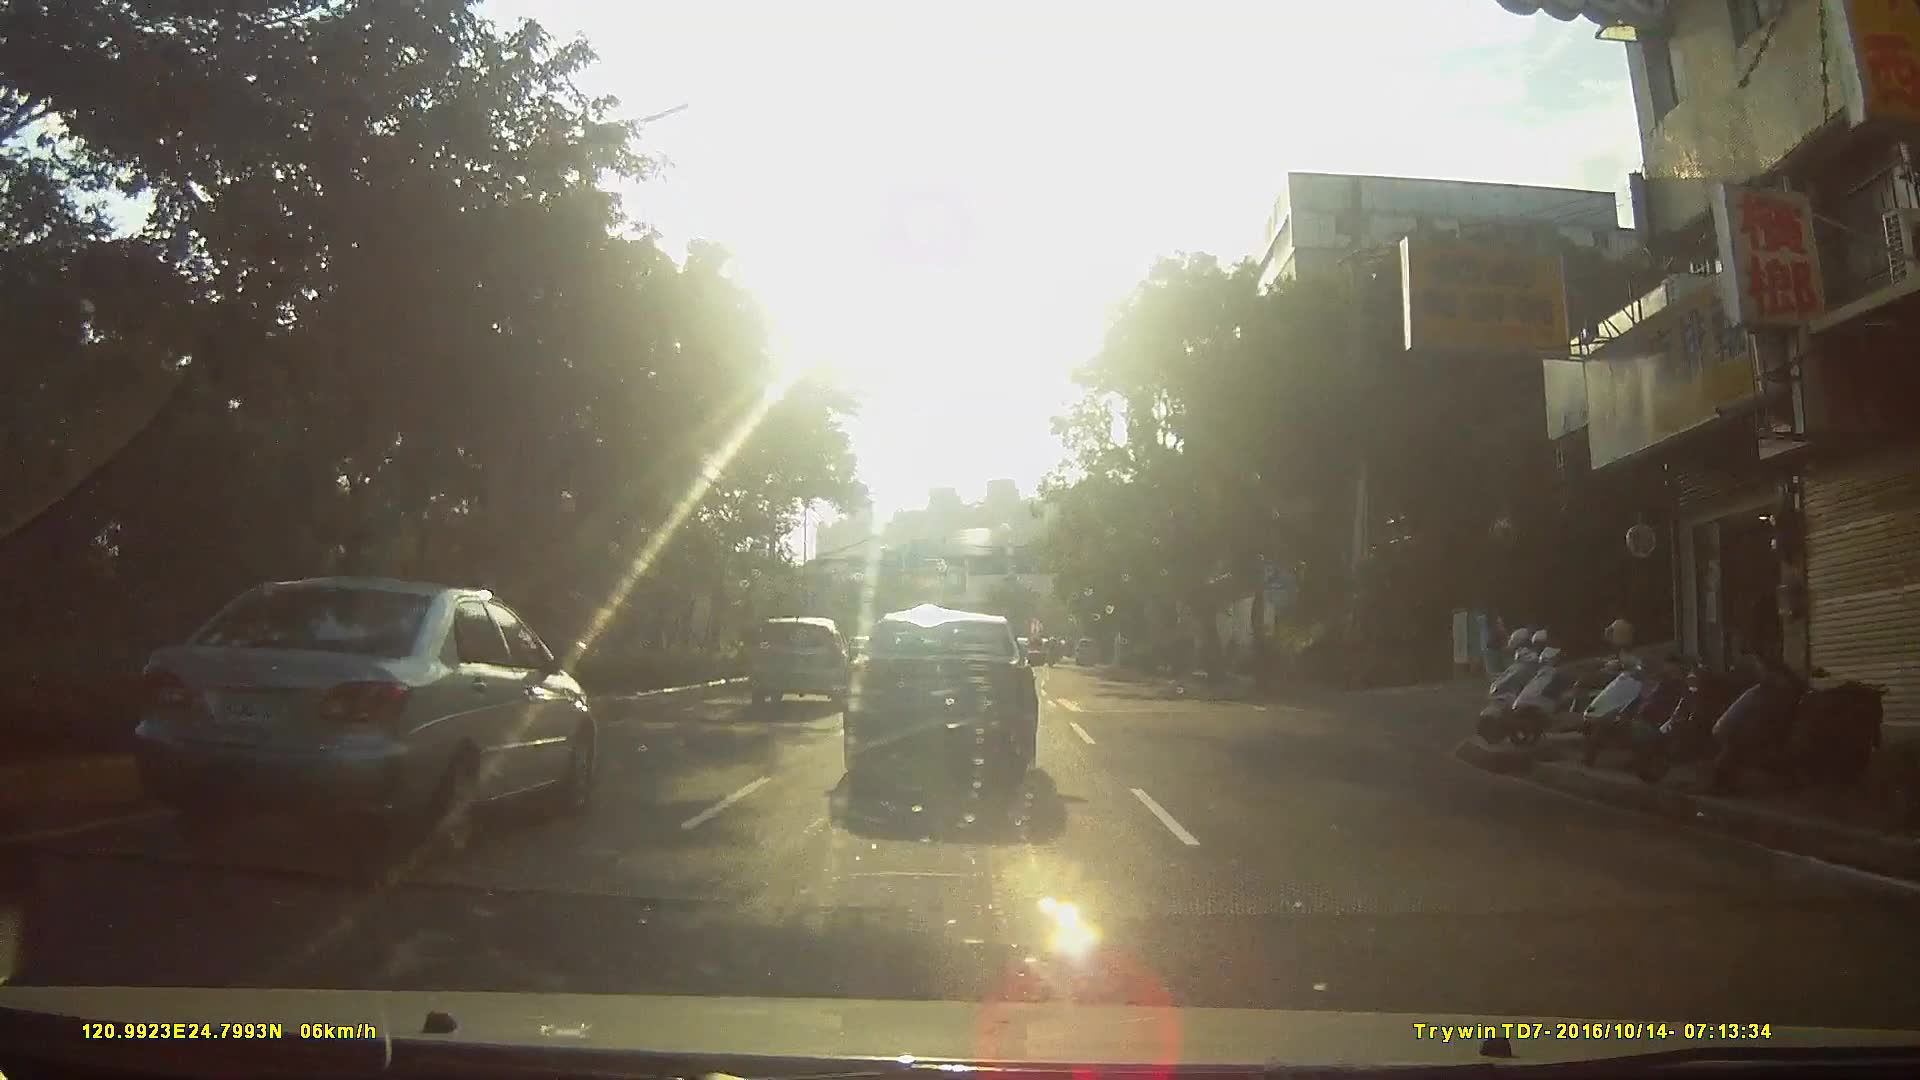pedestrian: (1474, 595, 1523, 699)
vehicle: (83, 578, 604, 873), (847, 611, 1060, 796), (748, 617, 857, 708), (1074, 635, 1106, 666)
